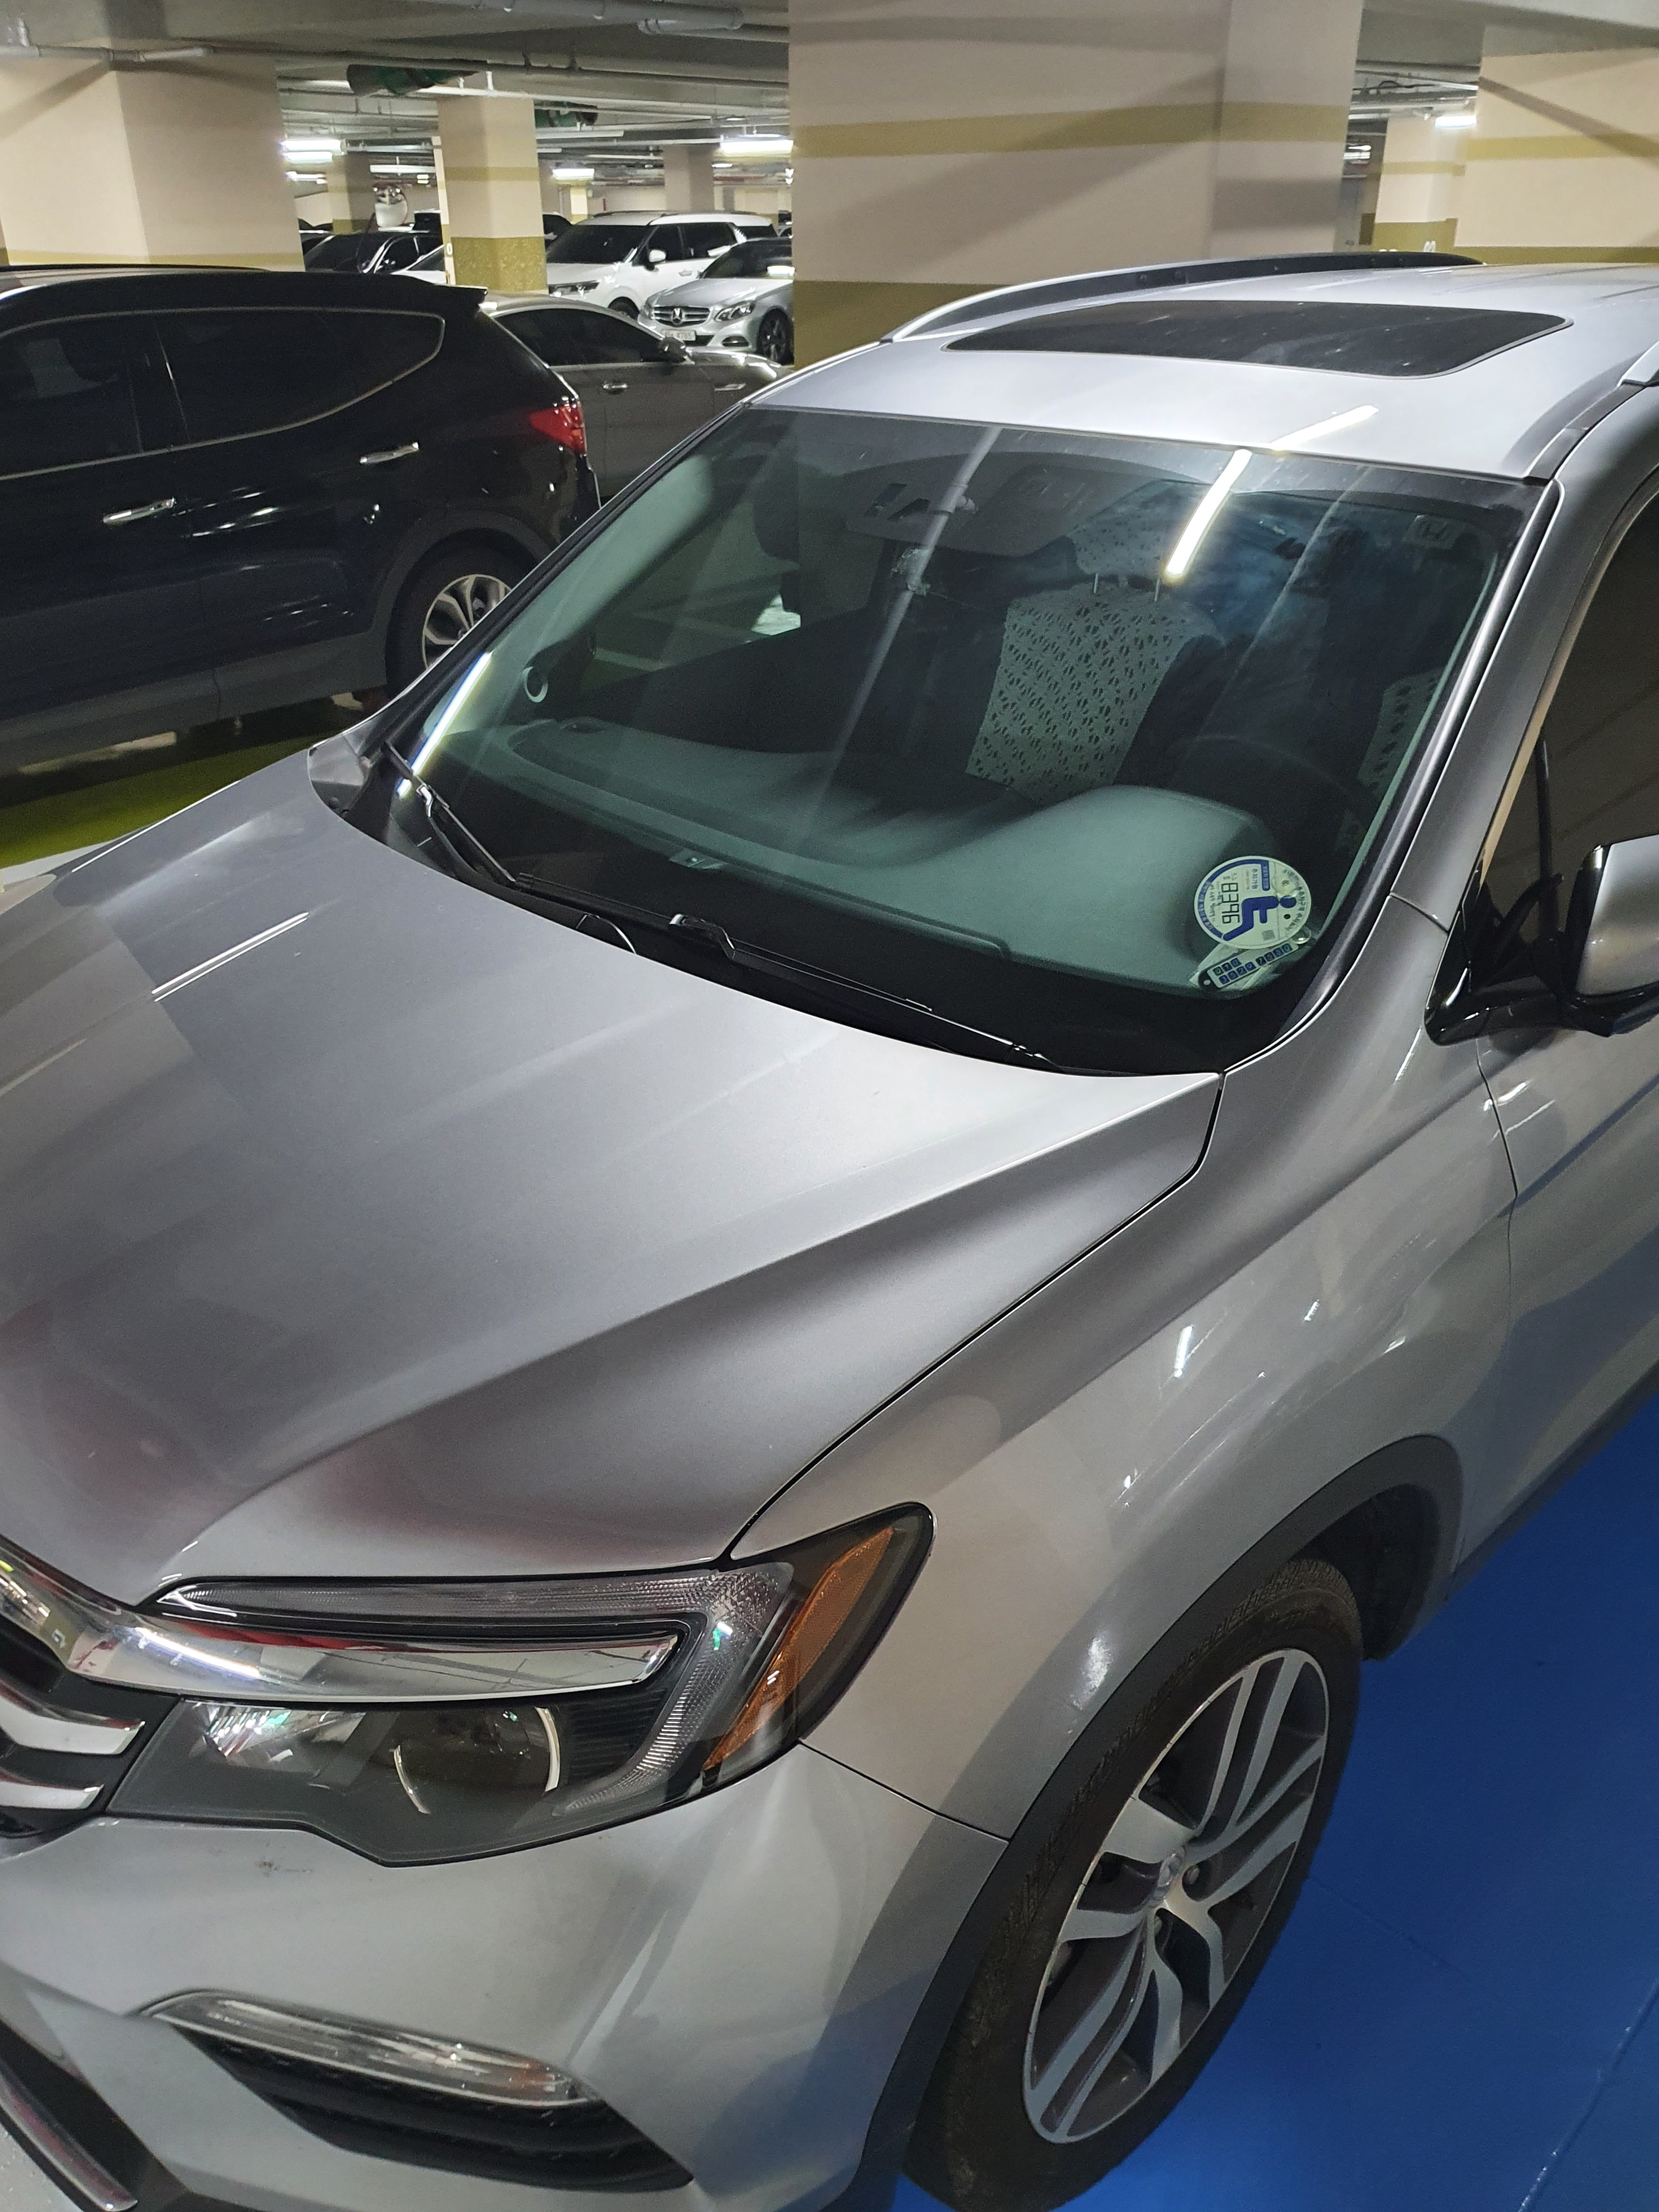disabled_parking: (1190, 850, 1310, 951)
